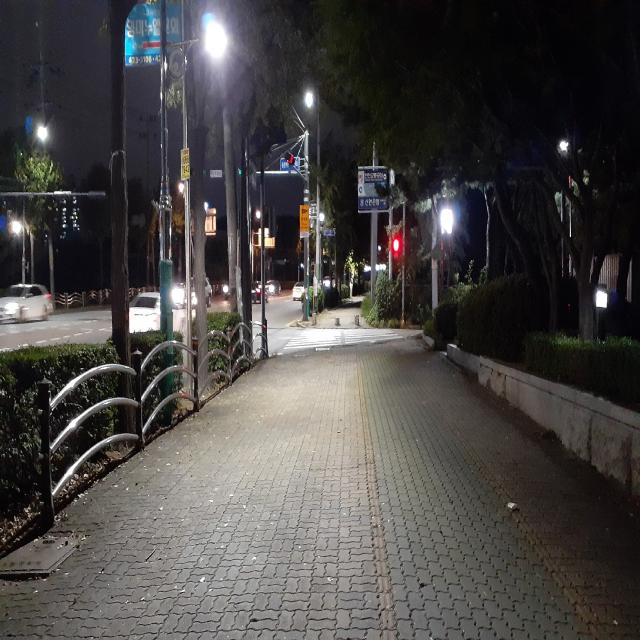빨간불: (392, 241, 403, 275)
횡단보도: (283, 329, 403, 350)
